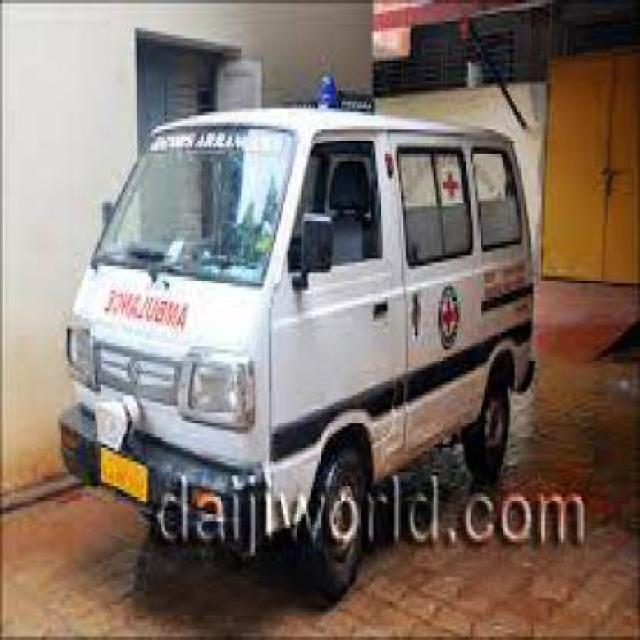Ambulance: (52, 83, 542, 600), (1, 274, 637, 638)
